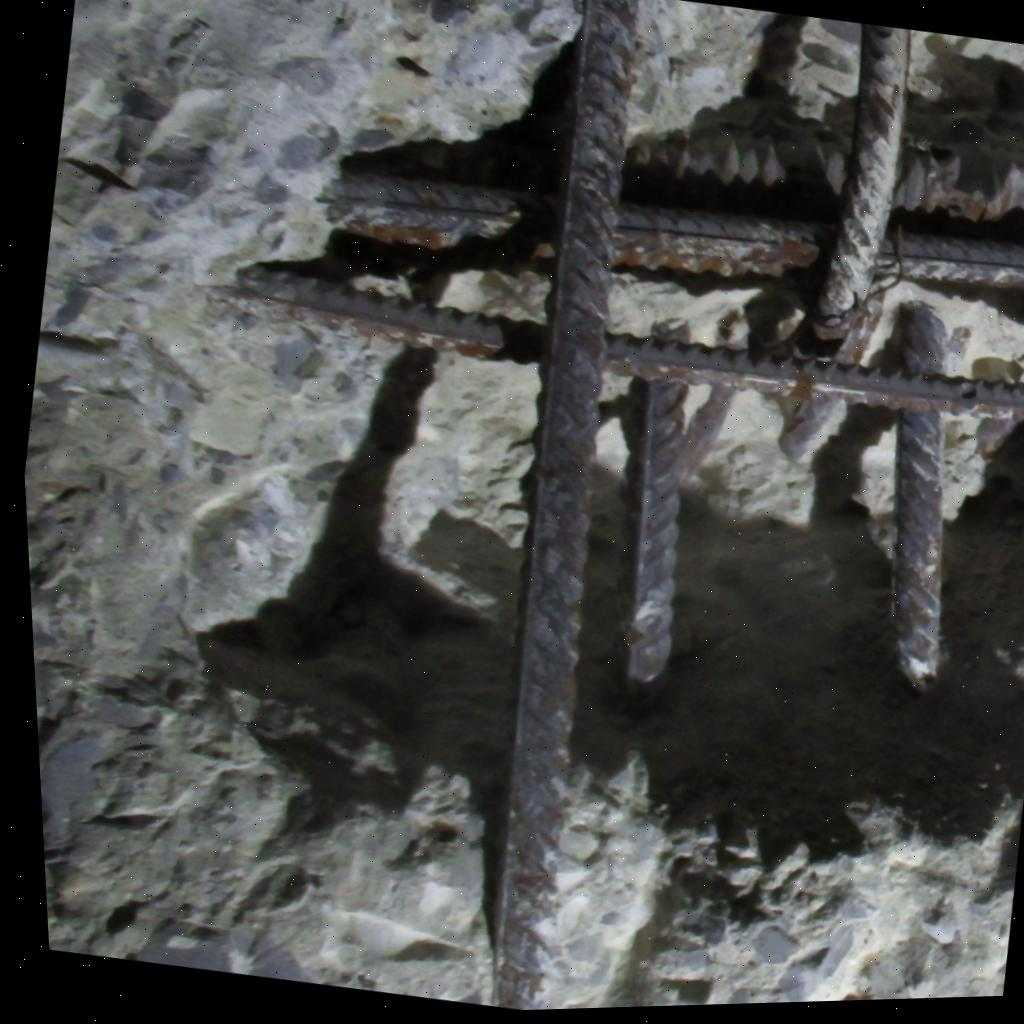exposed_rebar: (493, 0, 1024, 1010), (813, 24, 1024, 340), (245, 268, 537, 357), (322, 173, 522, 248)
spalling: (24, 0, 1024, 1010)
